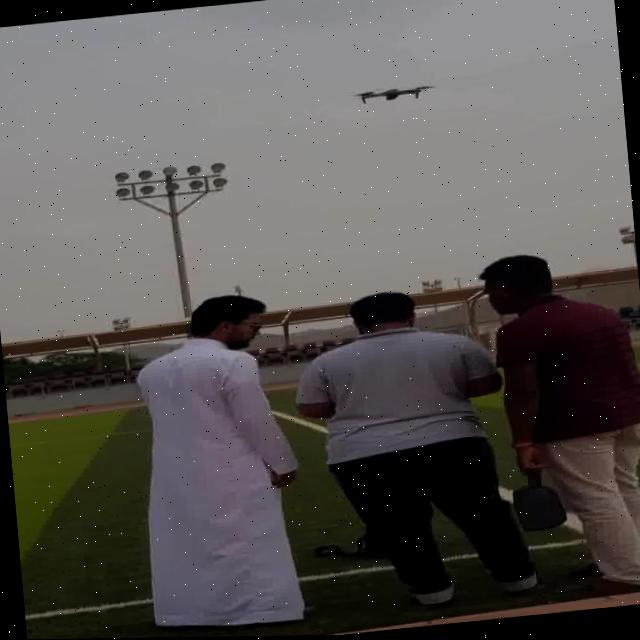drone: (346, 77, 436, 107)
